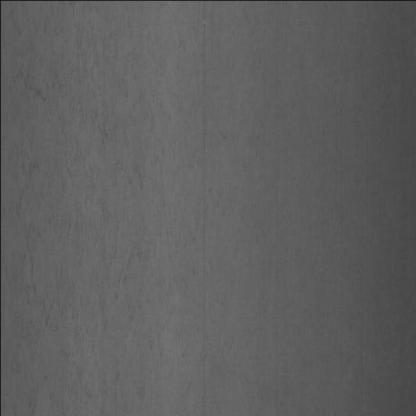silk_spot: (4, 15, 184, 385)
